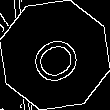O_NE: (22, 24, 88, 86)
